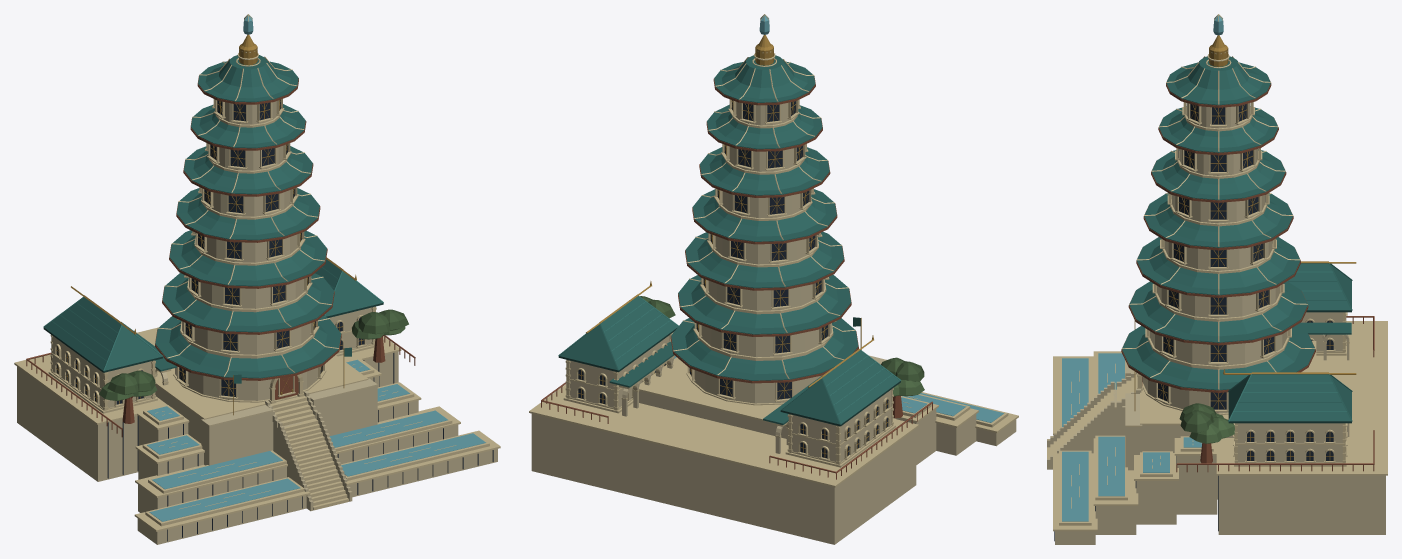
Rendered from water-pagoda.glb.
3 views of the same model, side by side, from view 1: azimuth 30°, elevation 25°; view 2: azimuth 150°, elevation 25°; view 3: azimuth 270°, elevation 25° (orthographic). The views are drawn at different scales.
Parts seen in each view (by area): view 1: flooded-terraces, stacked-eaves-roof, stacked-eaves, sluice-court-roof, sluice-court, water-stair; view 2: flooded-terraces, stacked-eaves-roof, stacked-eaves, sluice-court-roof, sluice-court, water-stair; view 3: flooded-terraces, stacked-eaves-roof, stacked-eaves, sluice-court-roof, sluice-court, water-stair.
Boxes of the visible parts, left/top/right/bottom form: flooded-terraces: left=14, top=327, right=500, bottom=544; stacked-eaves-roof: left=155, top=14, right=341, bottom=380; stacked-eaves: left=173, top=99, right=326, bottom=402; sluice-court-roof: left=43, top=257, right=383, bottom=372; sluice-court: left=48, top=306, right=376, bottom=413; water-stair: left=99, top=309, right=408, bottom=423; flooded-terraces: left=529, top=332, right=1018, bottom=544; stacked-eaves-roof: left=670, top=14, right=858, bottom=383; stacked-eaves: left=686, top=99, right=836, bottom=405; sluice-court-roof: left=558, top=281, right=901, bottom=426; sluice-court: left=563, top=334, right=895, bottom=467; water-stair: left=640, top=296, right=924, bottom=418; flooded-terraces: left=1047, top=316, right=1387, bottom=544; stacked-eaves-roof: left=1121, top=14, right=1315, bottom=392; stacked-eaves: left=1142, top=102, right=1291, bottom=414; sluice-court-roof: left=1223, top=261, right=1356, bottom=423; sluice-court: left=1134, top=312, right=1350, bottom=466; water-stair: left=1134, top=320, right=1234, bottom=463.
Size of the model in its own units: 34.35 by 41.11 by 28.54.
